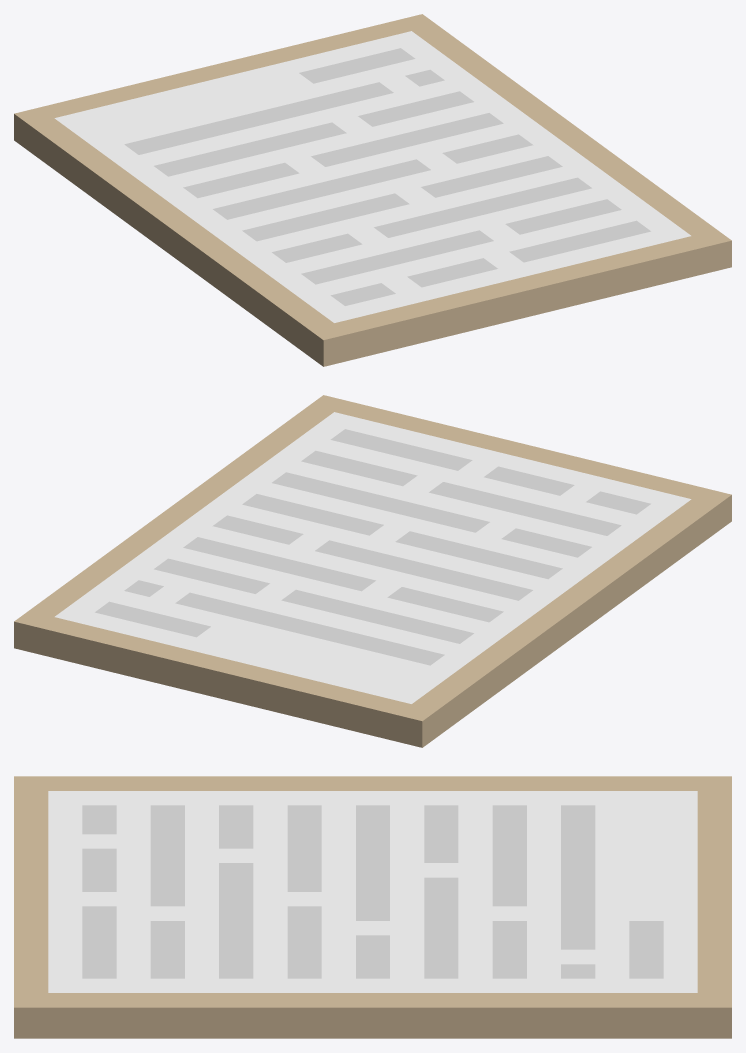
The model's file is Clipboard.obj.
3 renders of one model, top to bottom at view 1: azimuth 30°, elevation 25°; view 2: azimuth 150°, elevation 25°; view 3: azimuth 270°, elevation 25°, orthographic. The views are drawn at different scales.
Bounding box in the file's own units: 1.6 × 0.1 × 2.1.
1 material, 1 textured.
